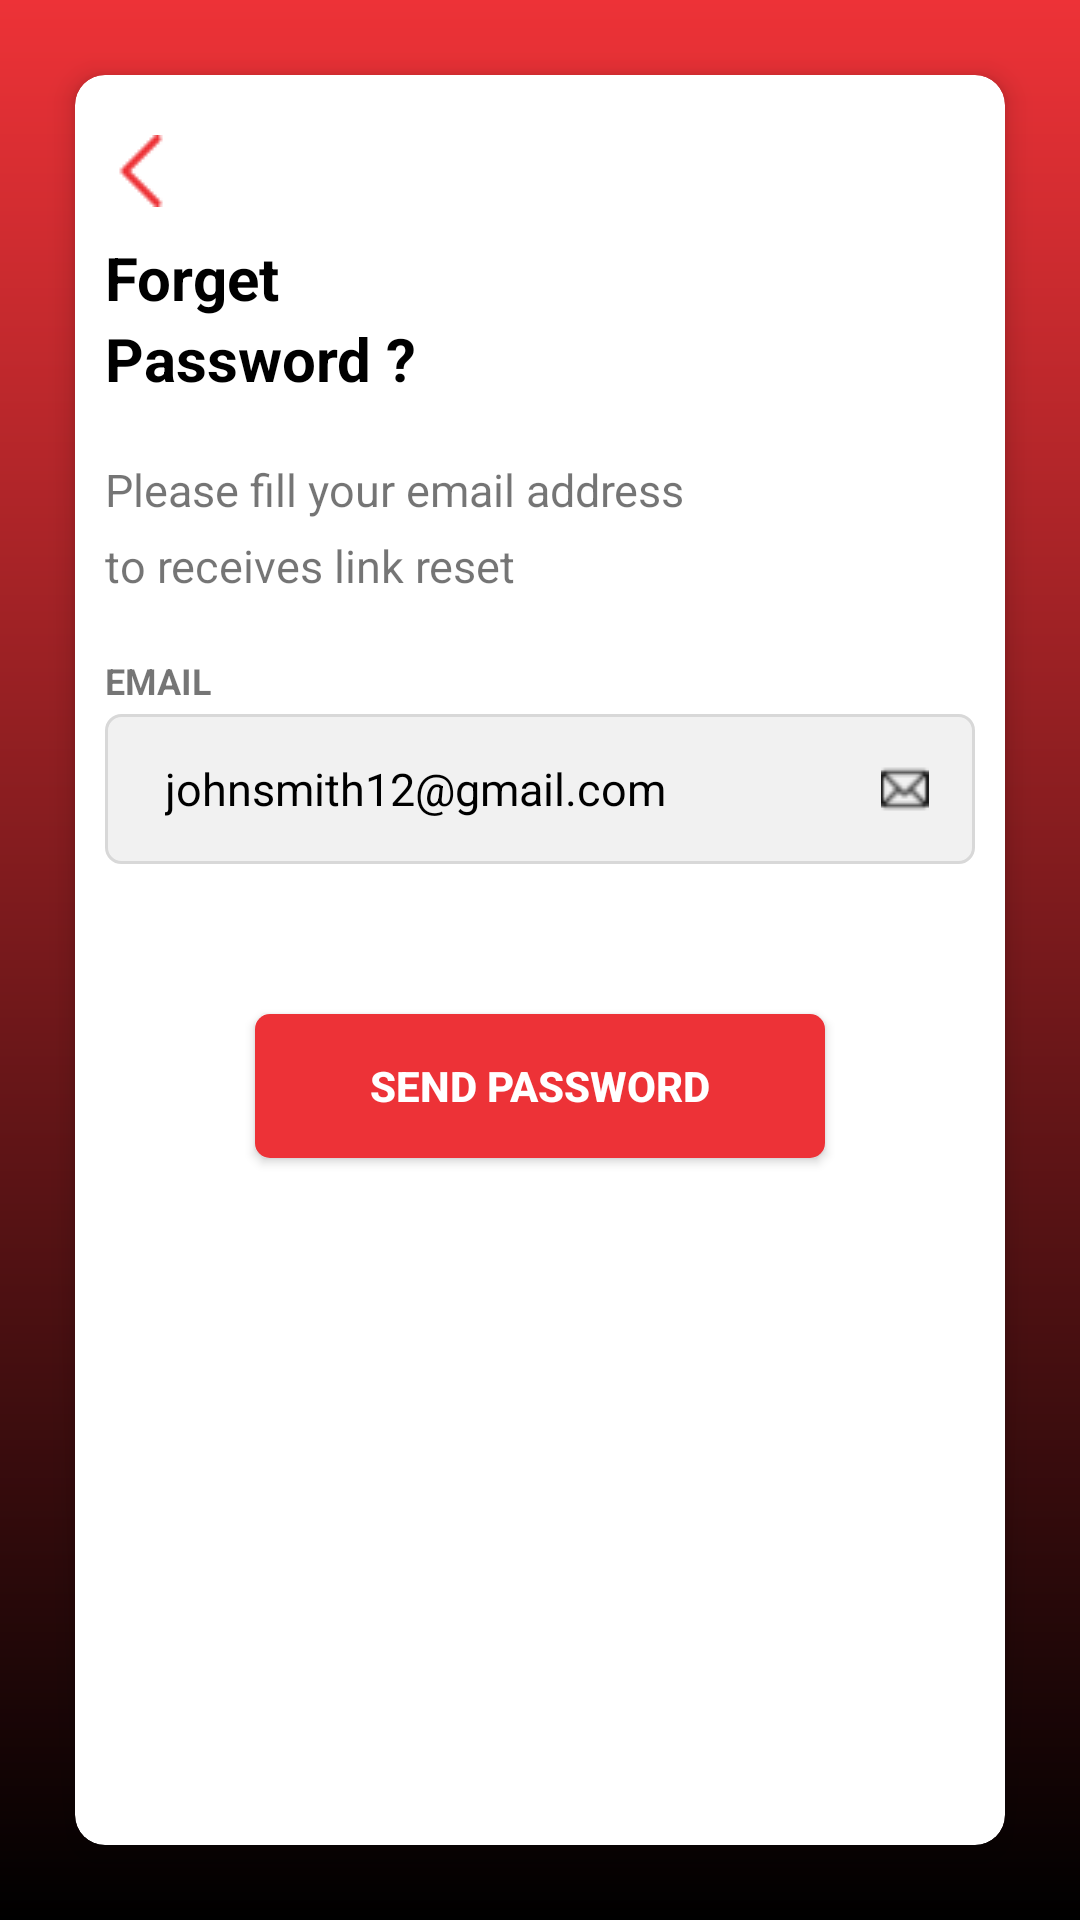

Named icons in this screenshot (1080*1920) and their centers, [x,y]:
back: [141,171]
email: [905,789]
